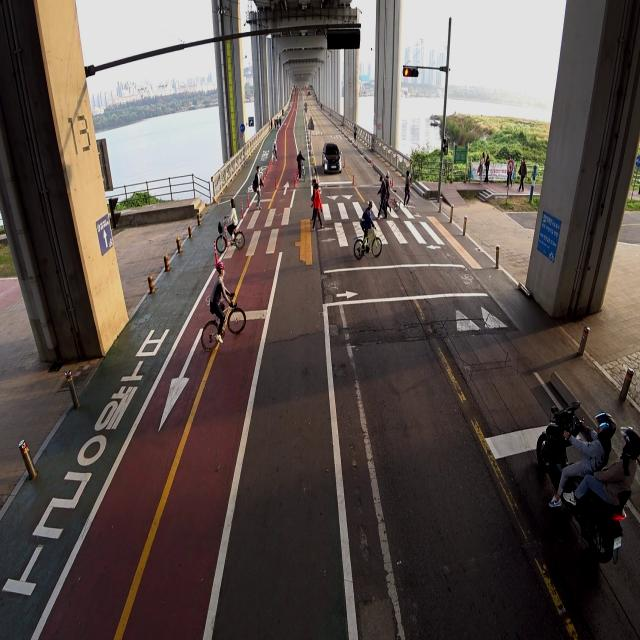Car: (322, 134, 344, 176)
Motorcycle: (536, 391, 639, 560)
